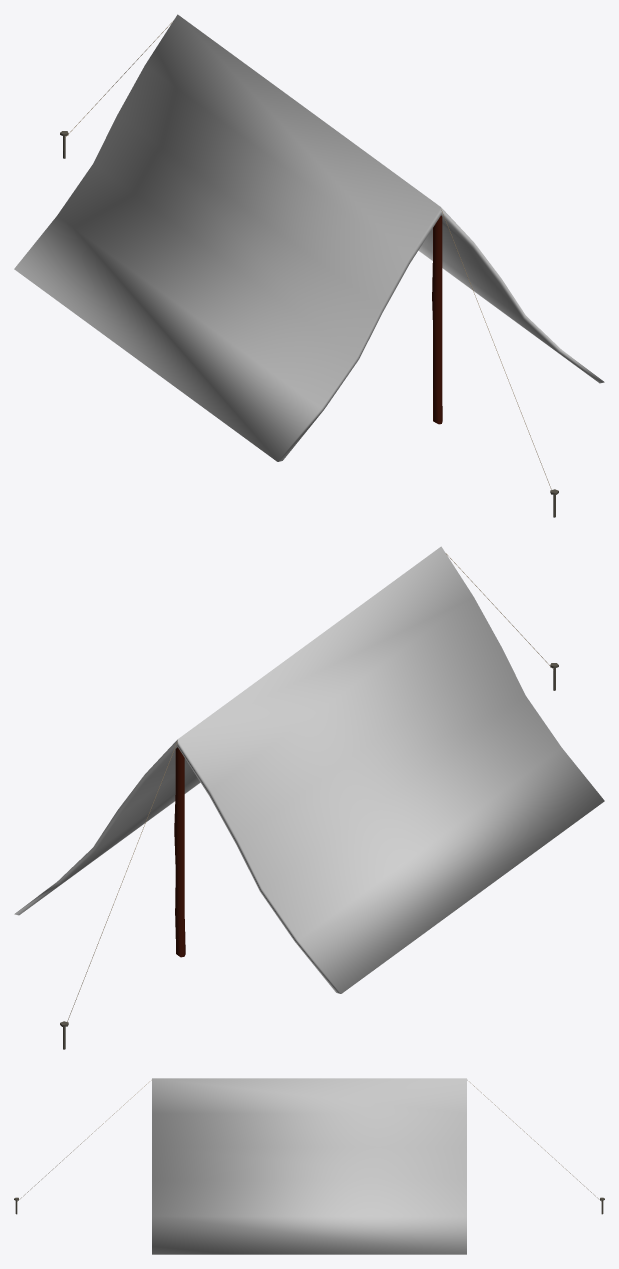
Rendered from adventure_2024.obj.
3 views of the same model, one above another, from view 1: azimuth 30°, elevation 25°; view 2: azimuth 150°, elevation 25°; view 3: azimuth 270°, elevation 25° (orthographic). The views are drawn at different scales.
Visible parts, largest first — view 1: 0, 1; view 2: 0, 1; view 3: 0.
Part boxes in pixels (bbox=[...]): 0: bbox=[14, 14, 604, 461]; 1: bbox=[432, 215, 442, 424]; 0: bbox=[14, 546, 604, 993]; 1: bbox=[174, 747, 185, 957]; 0: bbox=[152, 1078, 466, 1254].
Size of the model in its own units: 1.29 by 0.8547 by 3.38.
